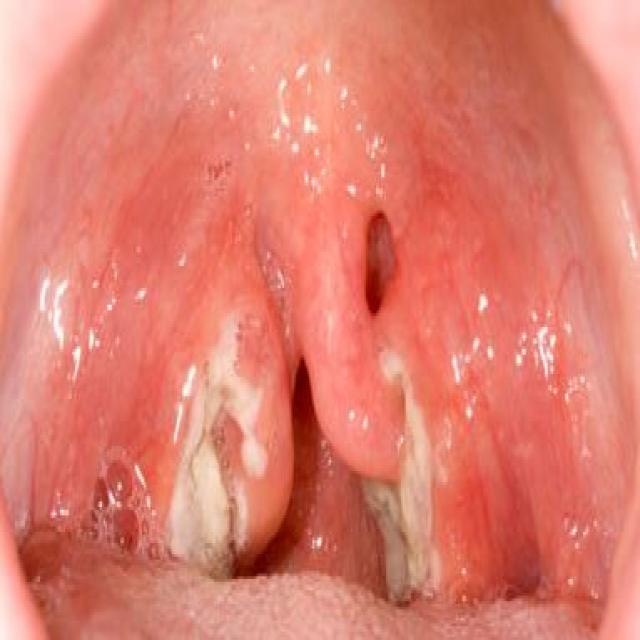pharyngitis: (304, 205, 510, 599), (117, 219, 296, 558)
